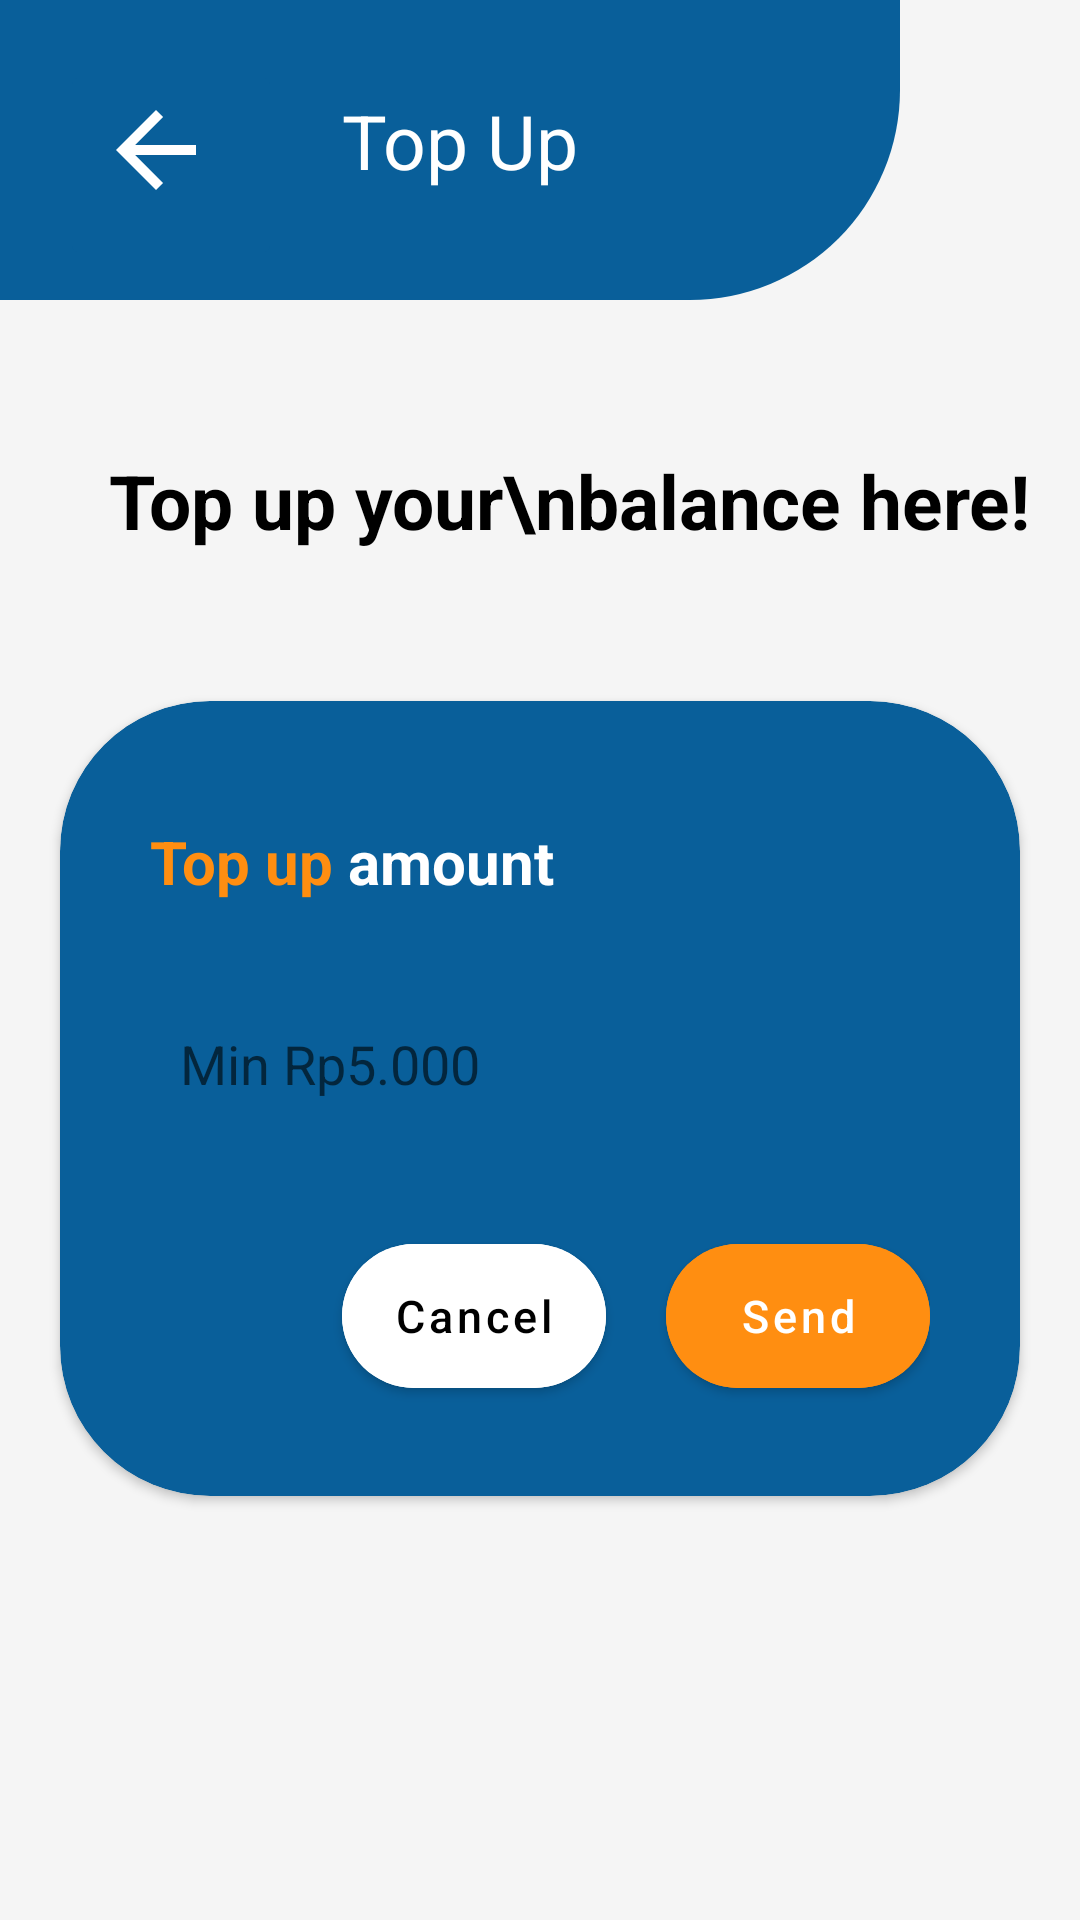

Where to tap for icons on this 1080×1920 app screen, as (x,y):
arrow back: (156,150)
